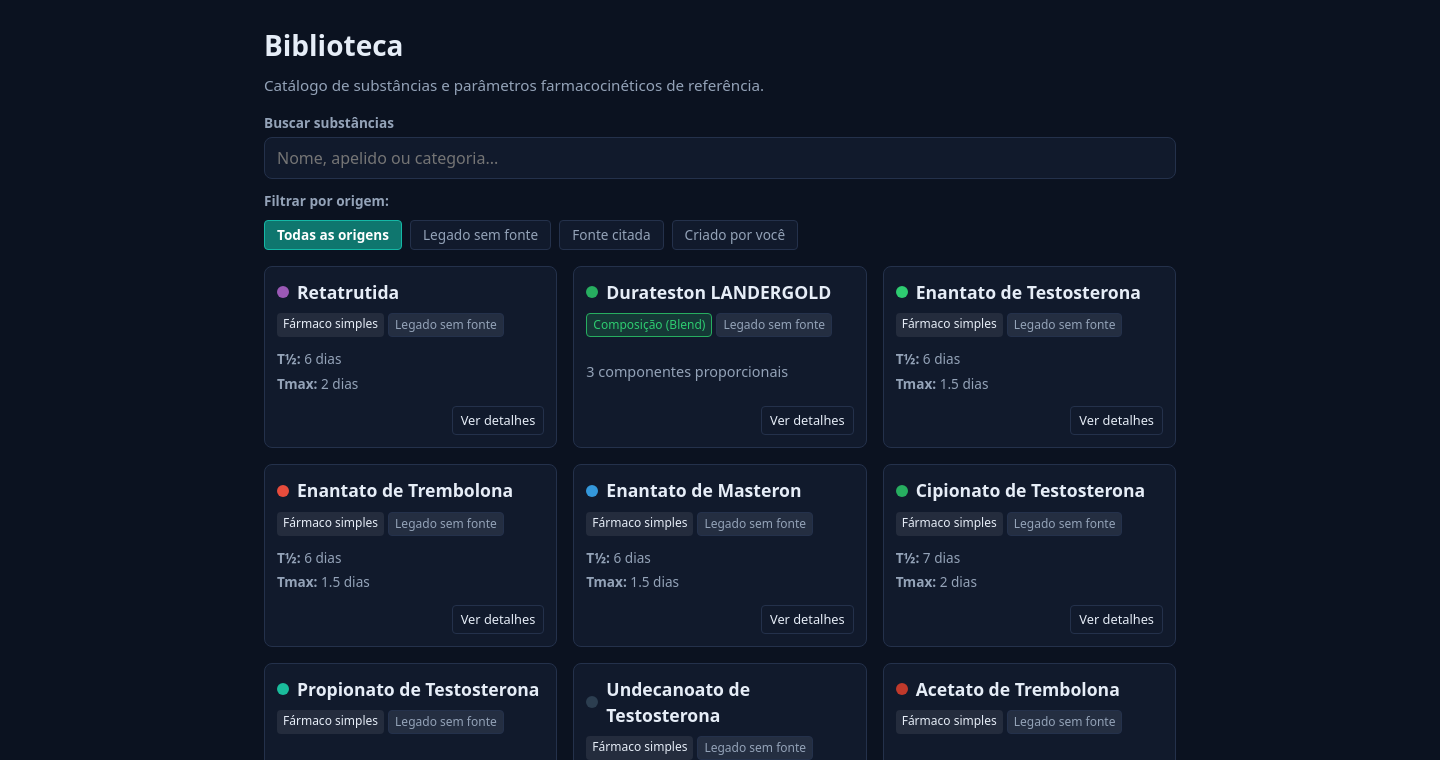
Scenario: E10 — LibraryPage UI Tests › abre ficha de SingleSubstance ao clicar e exibe dados e os dois CTAs (Comparar e Protocolos)
Click the heading "Retatrutida" at (348, 292), box [297,279,399,305]
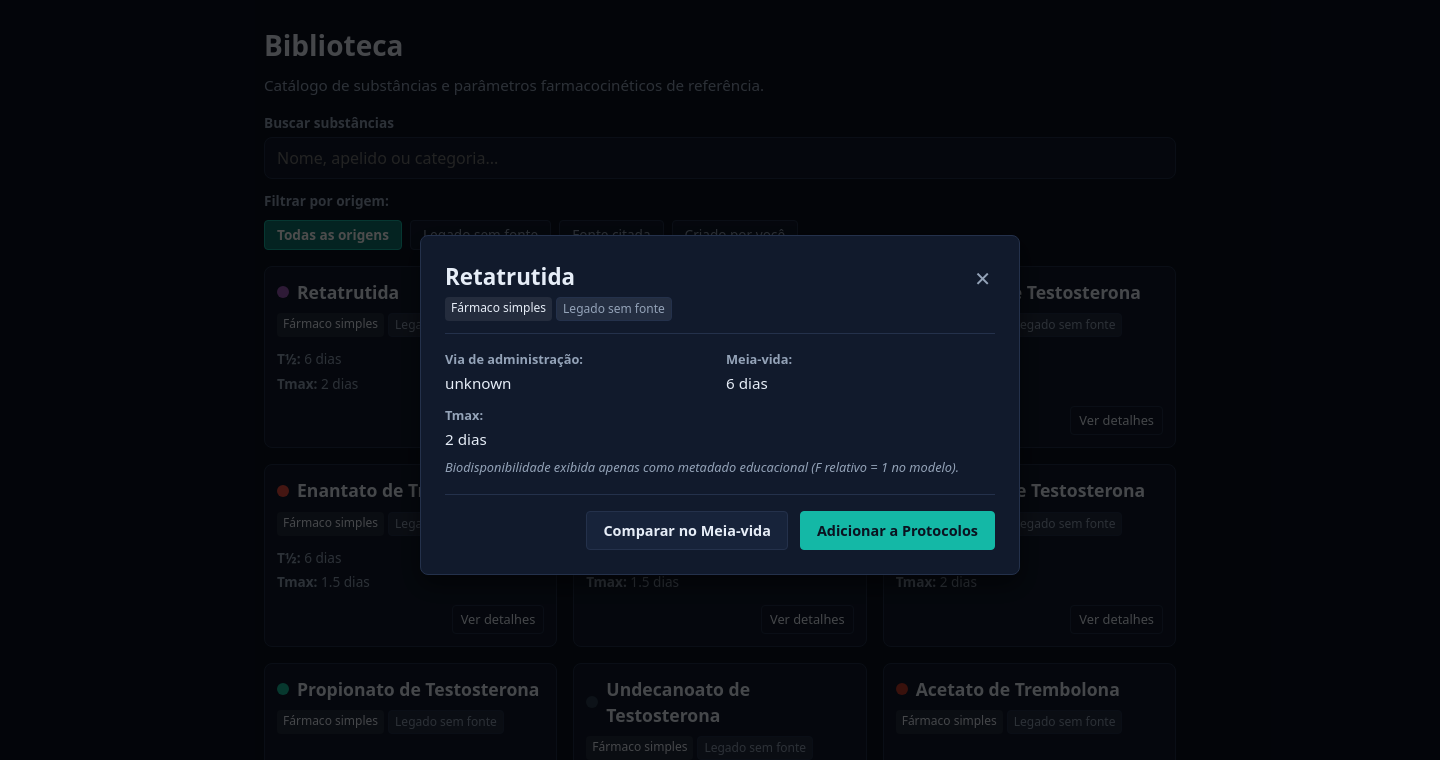
Check: the dialog is shown, box [420,235,1020,575]
Check: the text "6 dias" is shown, box [726,373,768,393]
Check: the text "2 dias" is shown, box [445,429,487,449]
